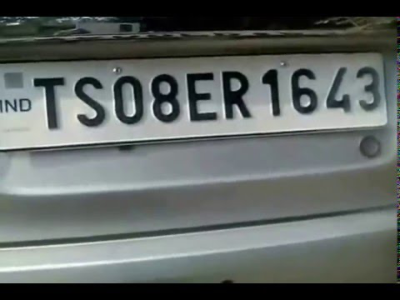licence: (1, 62, 387, 128)
